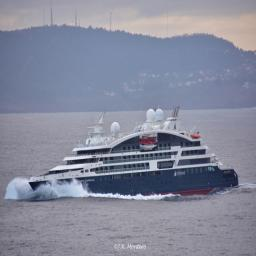cruises: (28, 106, 242, 203)
